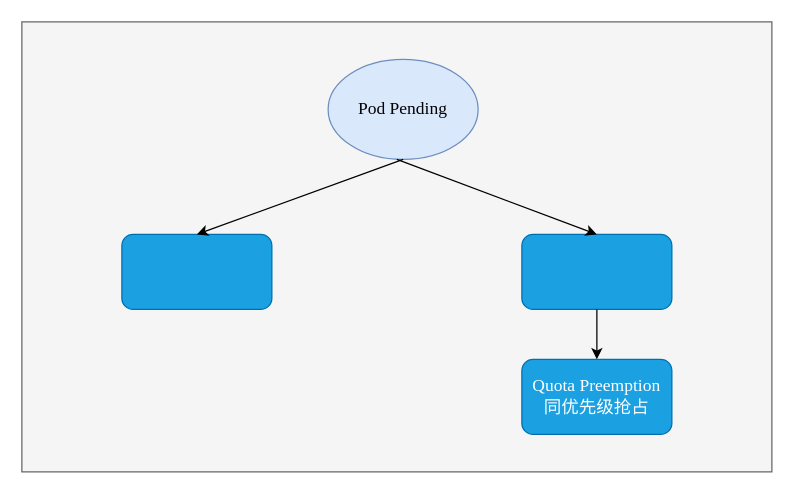
Image size: 794x494. Some labels were removed from this diagram. Each missing label, with the centre of its shape:
cluster-autoscaler: pixel 196 271
Default Preemption 高低优先级抢占: pixel 596 271
